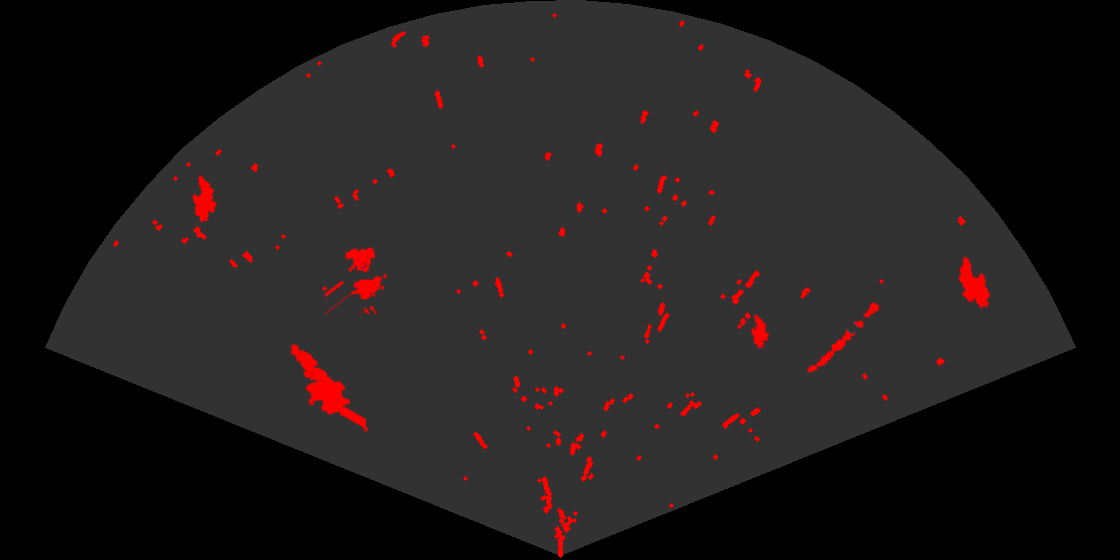AUV: (957, 255, 992, 310), (191, 174, 218, 224), (749, 313, 771, 351)
cage: (325, 246, 389, 314)
chain: (806, 301, 881, 374)
frogman: (288, 342, 366, 430)
